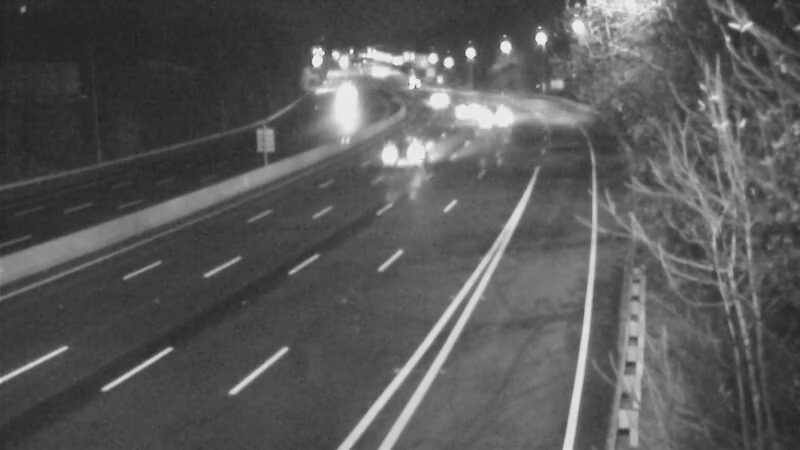vehicle: (372, 111, 452, 191), (386, 58, 436, 108), (410, 76, 460, 126), (439, 89, 489, 139), (465, 90, 515, 140), (316, 76, 366, 126)
